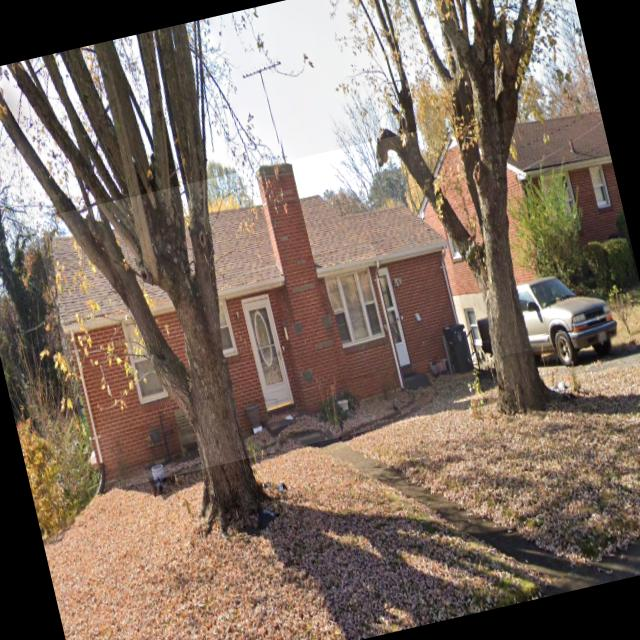House: (33, 130, 484, 492), (402, 99, 640, 367)
